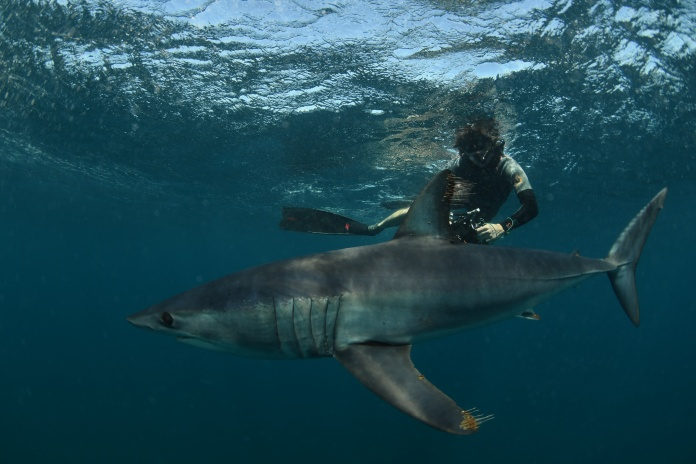Mako: (123, 165, 679, 442)
